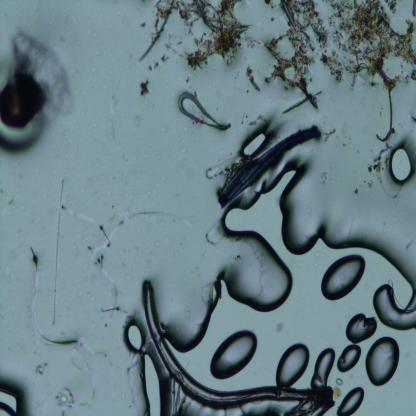Air bubble: (165, 162, 310, 352), (278, 156, 414, 289), (210, 329, 257, 381), (320, 254, 366, 302), (372, 283, 416, 331), (138, 348, 167, 416), (365, 336, 399, 386), (275, 342, 310, 390), (242, 124, 272, 160), (310, 346, 336, 387), (388, 144, 414, 184), (345, 313, 377, 343), (336, 385, 364, 416), (121, 318, 146, 352), (337, 344, 362, 373), (0, 382, 22, 414)
Background material: (141, 278, 337, 414), (320, 0, 415, 141), (0, 25, 75, 154), (138, 1, 249, 74), (262, 0, 324, 114), (82, 219, 113, 273), (53, 385, 76, 412), (243, 67, 261, 92), (367, 158, 386, 177), (139, 79, 150, 99), (323, 128, 337, 140), (35, 363, 46, 376), (412, 0, 416, 17), (354, 186, 359, 195)
Cotton: (218, 126, 321, 208)
Glass filter fibre: (24, 244, 80, 346), (51, 178, 66, 326), (178, 92, 231, 130)
